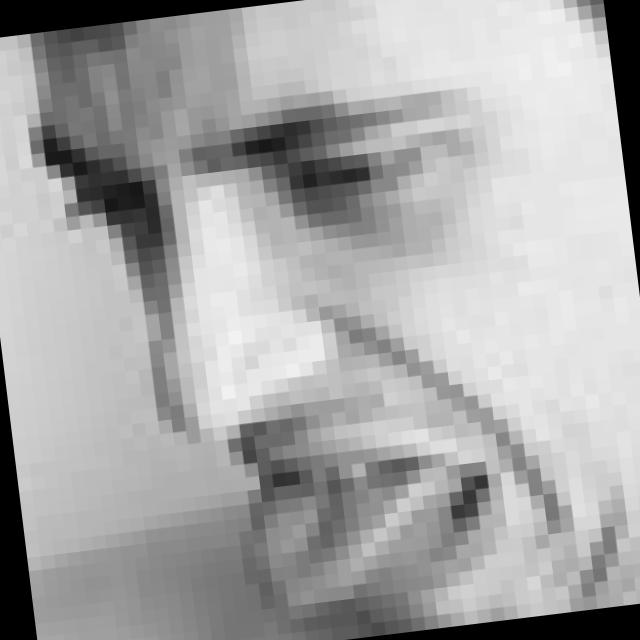disgust: (37, 79, 574, 640)
